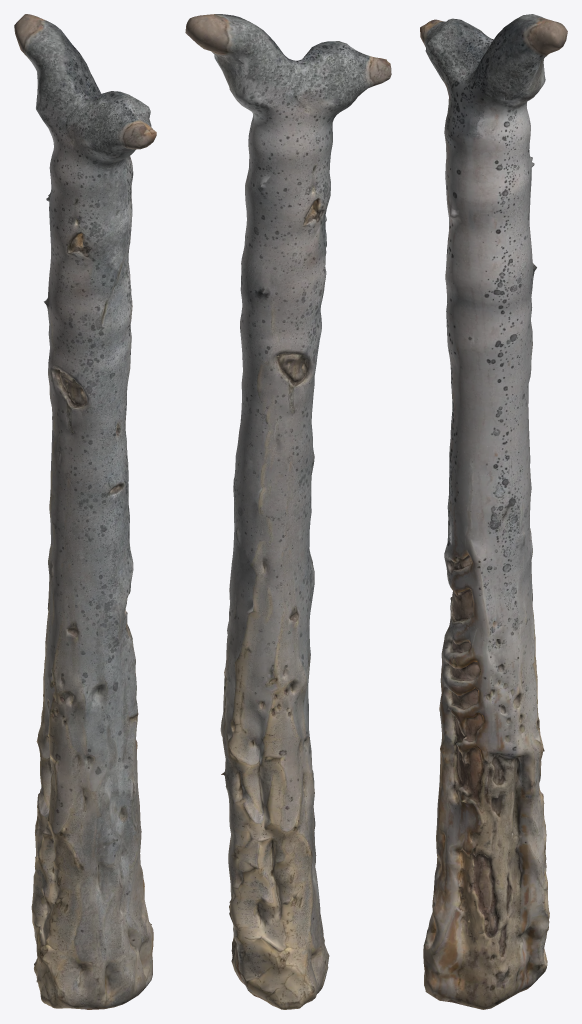
File: dead_quiver_trunk.gltf
3 views of the same model, side by side, from view 1: azimuth 90°, elevation 25°; view 2: azimuth 150°, elevation 25°; view 3: azimuth 270°, elevation 25° (orthographic). The views are drawn at different scales.
Visible parts, largest first — view 1: dead_quiver_trunk_LOD0; view 2: dead_quiver_trunk_LOD0; view 3: dead_quiver_trunk_LOD0.
Part boxes in pixels (bbox=[...]): dead_quiver_trunk_LOD0: bbox=[14, 14, 156, 1009]; dead_quiver_trunk_LOD0: bbox=[185, 14, 391, 1009]; dead_quiver_trunk_LOD0: bbox=[420, 14, 567, 1009].
Bounding box in the file's own units: 0.3065 × 1.99 × 0.2681.
1 material, 1 textured.
